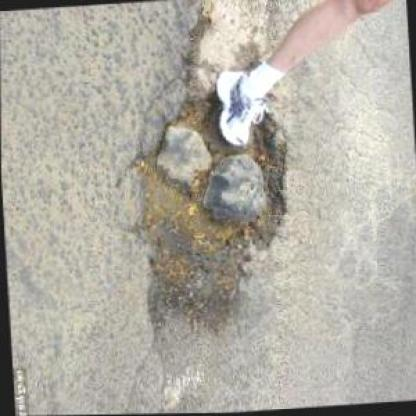pothole: (128, 85, 298, 341)
